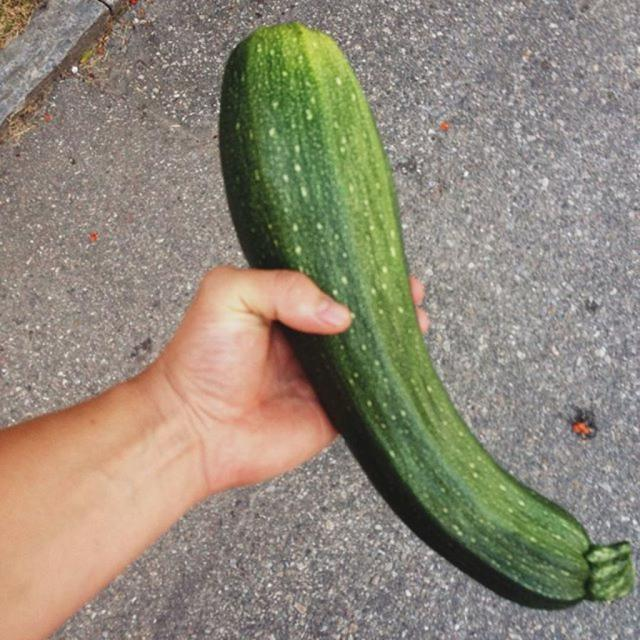Zucchini: (205, 10, 637, 607)
